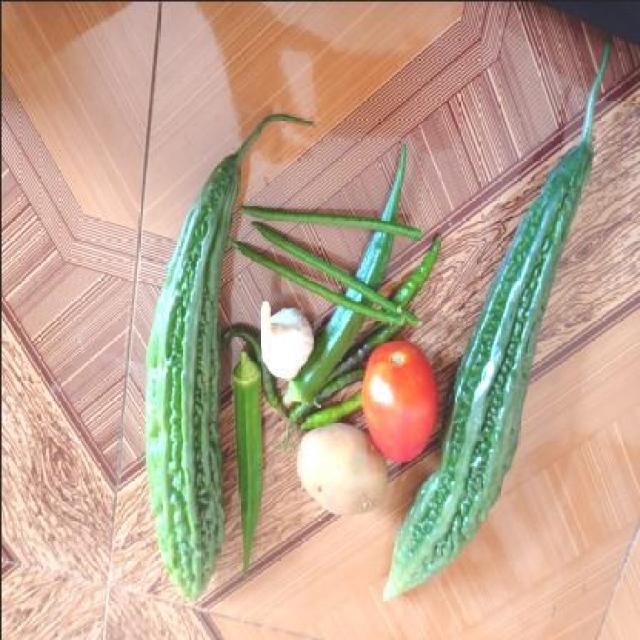Potato: (290, 422, 388, 516)
Tomato: (363, 340, 434, 460)
